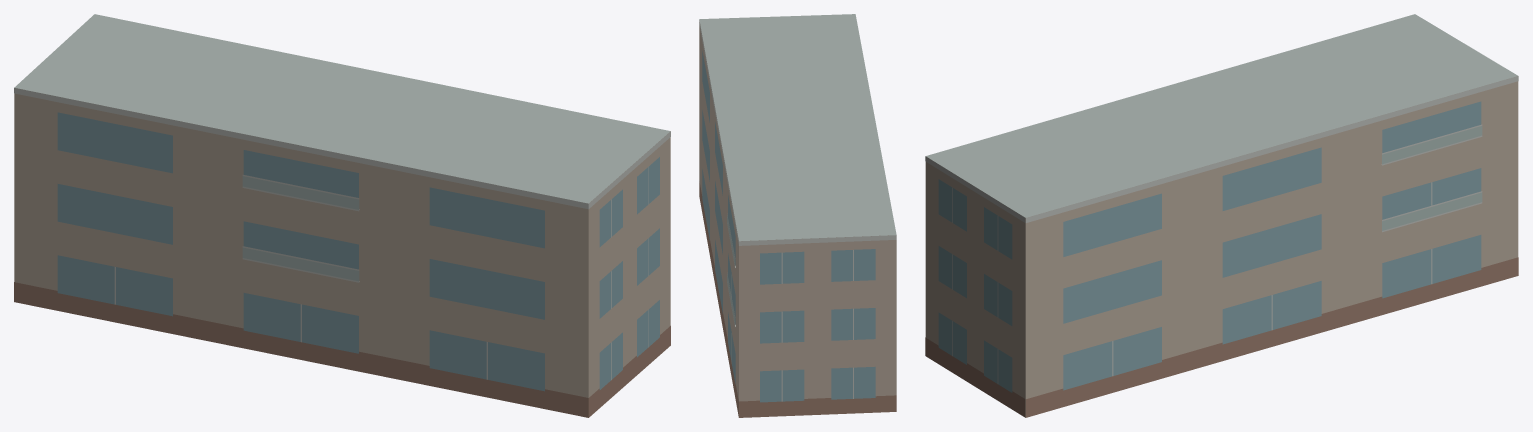
File: survey-upis-33002599.glb
3 renders of one model, left to right at view 1: azimuth 30°, elevation 25°; view 2: azimuth 150°, elevation 25°; view 3: azimuth 270°, elevation 25°, orthographic. The views are drawn at different scales.
Parts seen in each view (by area): view 1: survey-upis-33002599.tmp; view 2: survey-upis-33002599.tmp; view 3: survey-upis-33002599.tmp.
Part boxes in pixels (box(x1,y1,x2,y2)): survey-upis-33002599.tmp: box(14, 14, 670, 417); survey-upis-33002599.tmp: box(699, 14, 896, 417); survey-upis-33002599.tmp: box(925, 14, 1518, 417).
Size of the model in its own units: 20.03 by 9.15 by 24.6.
